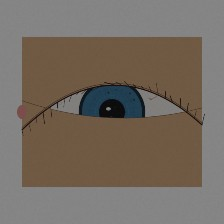pinguecula_lesion: (40, 103, 84, 138)
